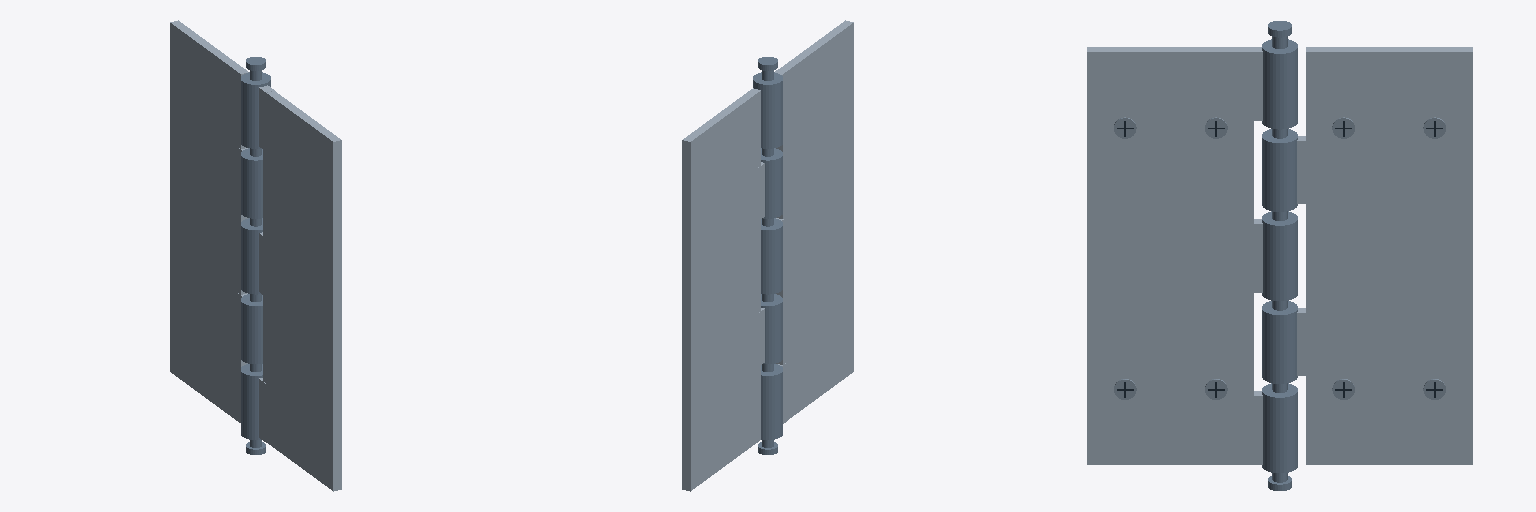
The robot description file, URDF, robot "architectural_butt_hinge":
<robot name="architectural_butt_hinge">
  <material name="satin_galvanized_leaf">
    <color rgba="0.68 0.73 0.78 1" />
    </material>
  <material name="darker_pin_and_knuckles">
    <color rgba="0.48 0.55 0.62 1" />
    </material>
  <material name="recessed_screw_heads">
    <color rgba="0.56 0.62 0.68 1" />
    </material>
  <material name="dark_screw_recesses">
    <color rgba="0.18 0.23 0.28 1" />
    </material>
  <link name="frame_leaf">
    <visual name="frame_rectangular_leaf_plate">
      <origin xyz="0 -0.288 0" rpy="0 0 0" />
      <geometry>
        <box size="0.03 0.44 1.2" />
        </geometry>
      <material name="satin_galvanized_leaf">
        <color rgba="0.68 0.73 0.78 1" />
        </material>
      </visual>
    <visual name="continuous_hinge_pin_visible_core">
      <geometry>
        <cylinder radius="0.02" length="1.305" />
        </geometry>
      <material name="darker_pin_and_knuckles">
        <color rgba="0.48 0.55 0.62 1" />
        </material>
      </visual>
    <visual name="frame_alternating_knuckle_1">
      <origin xyz="0 0 0.5" rpy="0 0 0" />
      <geometry>
        <cylinder radius="0.048" length="0.22" />
        </geometry>
      <material name="darker_pin_and_knuckles">
        <color rgba="0.48 0.55 0.62 1" />
        </material>
      </visual>
    <visual name="frame_leaf_to_knuckle_bridge_1">
      <origin xyz="0 -0.053 0.5" rpy="0 0 0" />
      <geometry>
        <box size="0.0324 0.075 0.2024" />
        </geometry>
      <material name="satin_galvanized_leaf">
        <color rgba="0.68 0.73 0.78 1" />
        </material>
      </visual>
    <visual name="frame_alternating_knuckle_2">
      <geometry>
        <cylinder radius="0.048" length="0.22" />
        </geometry>
      <material name="darker_pin_and_knuckles">
        <color rgba="0.48 0.55 0.62 1" />
        </material>
      </visual>
    <visual name="frame_leaf_to_knuckle_bridge_2">
      <origin xyz="0 -0.053 0" rpy="0 0 0" />
      <geometry>
        <box size="0.0324 0.075 0.2024" />
        </geometry>
      <material name="satin_galvanized_leaf">
        <color rgba="0.68 0.73 0.78 1" />
        </material>
      </visual>
    <visual name="frame_alternating_knuckle_3">
      <origin xyz="0 0 -0.5" rpy="0 0 0" />
      <geometry>
        <cylinder radius="0.048" length="0.22" />
        </geometry>
      <material name="darker_pin_and_knuckles">
        <color rgba="0.48 0.55 0.62 1" />
        </material>
      </visual>
    <visual name="frame_leaf_to_knuckle_bridge_3">
      <origin xyz="0 -0.053 -0.5" rpy="0 0 0" />
      <geometry>
        <box size="0.0324 0.075 0.2024" />
        </geometry>
      <material name="satin_galvanized_leaf">
        <color rgba="0.68 0.73 0.78 1" />
        </material>
      </visual>
    <visual name="top_pin_cap">
      <origin xyz="0 0 0.66" rpy="0 0 0" />
      <geometry>
        <cylinder radius="0.032" length="0.02" />
        </geometry>
      <material name="darker_pin_and_knuckles">
        <color rgba="0.48 0.55 0.62 1" />
        </material>
      </visual>
    <visual name="bottom_pin_cap">
      <origin xyz="0 0 -0.66" rpy="0 0 0" />
      <geometry>
        <cylinder radius="0.032" length="0.02" />
        </geometry>
      <material name="darker_pin_and_knuckles">
        <color rgba="0.48 0.55 0.62 1" />
        </material>
      </visual>
    <visual name="frame_countersunk_screw_1_head">
      <origin xyz="0.015 -0.408 0.38" rpy="0 1.5708 0" />
      <geometry>
        <cylinder radius="0.03" length="0.01" />
        </geometry>
      <material name="recessed_screw_heads">
        <color rgba="0.56 0.62 0.68 1" />
        </material>
      </visual>
    <visual name="frame_countersunk_screw_1_slot_a">
      <origin xyz="0.016 -0.408 0.38" rpy="0 0 0" />
      <geometry>
        <box size="0.01 0.045 0.004" />
        </geometry>
      <material name="dark_screw_recesses">
        <color rgba="0.18 0.23 0.28 1" />
        </material>
      </visual>
    <visual name="frame_countersunk_screw_1_slot_b">
      <origin xyz="0.017 -0.408 0.38" rpy="0 0 0" />
      <geometry>
        <box size="0.01 0.004 0.045" />
        </geometry>
      <material name="dark_screw_recesses">
        <color rgba="0.18 0.23 0.28 1" />
        </material>
      </visual>
    <visual name="frame_countersunk_screw_2_head">
      <origin xyz="0.015 -0.168 0.38" rpy="0 1.5708 0" />
      <geometry>
        <cylinder radius="0.03" length="0.01" />
        </geometry>
      <material name="recessed_screw_heads">
        <color rgba="0.56 0.62 0.68 1" />
        </material>
      </visual>
    <visual name="frame_countersunk_screw_2_slot_a">
      <origin xyz="0.016 -0.168 0.38" rpy="0 0 0" />
      <geometry>
        <box size="0.01 0.045 0.004" />
        </geometry>
      <material name="dark_screw_recesses">
        <color rgba="0.18 0.23 0.28 1" />
        </material>
      </visual>
    <visual name="frame_countersunk_screw_2_slot_b">
      <origin xyz="0.017 -0.168 0.38" rpy="0 0 0" />
      <geometry>
        <box size="0.01 0.004 0.045" />
        </geometry>
      <material name="dark_screw_recesses">
        <color rgba="0.18 0.23 0.28 1" />
        </material>
      </visual>
    <visual name="frame_countersunk_screw_3_head">
      <origin xyz="0.015 -0.408 -0.38" rpy="0 1.5708 0" />
      <geometry>
        <cylinder radius="0.03" length="0.01" />
        </geometry>
      <material name="recessed_screw_heads">
        <color rgba="0.56 0.62 0.68 1" />
        </material>
      </visual>
    <visual name="frame_countersunk_screw_3_slot_a">
      <origin xyz="0.016 -0.408 -0.38" rpy="0 0 0" />
      <geometry>
        <box size="0.01 0.045 0.004" />
        </geometry>
      <material name="dark_screw_recesses">
        <color rgba="0.18 0.23 0.28 1" />
        </material>
      </visual>
    <visual name="frame_countersunk_screw_3_slot_b">
      <origin xyz="0.017 -0.408 -0.38" rpy="0 0 0" />
      <geometry>
        <box size="0.01 0.004 0.045" />
        </geometry>
      <material name="dark_screw_recesses">
        <color rgba="0.18 0.23 0.28 1" />
        </material>
      </visual>
    <visual name="frame_countersunk_screw_4_head">
      <origin xyz="0.015 -0.168 -0.38" rpy="0 1.5708 0" />
      <geometry>
        <cylinder radius="0.03" length="0.01" />
        </geometry>
      <material name="recessed_screw_heads">
        <color rgba="0.56 0.62 0.68 1" />
        </material>
      </visual>
    <visual name="frame_countersunk_screw_4_slot_a">
      <origin xyz="0.016 -0.168 -0.38" rpy="0 0 0" />
      <geometry>
        <box size="0.01 0.045 0.004" />
        </geometry>
      <material name="dark_screw_recesses">
        <color rgba="0.18 0.23 0.28 1" />
        </material>
      </visual>
    <visual name="frame_countersunk_screw_4_slot_b">
      <origin xyz="0.017 -0.168 -0.38" rpy="0 0 0" />
      <geometry>
        <box size="0.01 0.004 0.045" />
        </geometry>
      <material name="dark_screw_recesses">
        <color rgba="0.18 0.23 0.28 1" />
        </material>
      </visual>
    <collision name="frame_rectangular_leaf_plate">
      <origin xyz="0 -0.288 0" rpy="0 0 0" />
      <geometry>
        <box size="0.03 0.44 1.2" />
        </geometry>
      </collision>
    <collision name="continuous_hinge_pin_visible_core">
      <geometry>
        <cylinder radius="0.02" length="1.305" />
        </geometry>
      </collision>
    <collision name="frame_alternating_knuckle_1">
      <origin xyz="0 0 0.5" rpy="0 0 0" />
      <geometry>
        <cylinder radius="0.048" length="0.22" />
        </geometry>
      </collision>
    <collision name="frame_leaf_to_knuckle_bridge_1">
      <origin xyz="0 -0.053 0.5" rpy="0 0 0" />
      <geometry>
        <box size="0.0324 0.075 0.2024" />
        </geometry>
      </collision>
    <collision name="frame_alternating_knuckle_2">
      <geometry>
        <cylinder radius="0.048" length="0.22" />
        </geometry>
      </collision>
    <collision name="frame_leaf_to_knuckle_bridge_2">
      <origin xyz="0 -0.053 0" rpy="0 0 0" />
      <geometry>
        <box size="0.0324 0.075 0.2024" />
        </geometry>
      </collision>
    <collision name="frame_alternating_knuckle_3">
      <origin xyz="0 0 -0.5" rpy="0 0 0" />
      <geometry>
        <cylinder radius="0.048" length="0.22" />
        </geometry>
      </collision>
    <collision name="frame_leaf_to_knuckle_bridge_3">
      <origin xyz="0 -0.053 -0.5" rpy="0 0 0" />
      <geometry>
        <box size="0.0324 0.075 0.2024" />
        </geometry>
      </collision>
    <collision name="top_pin_cap">
      <origin xyz="0 0 0.66" rpy="0 0 0" />
      <geometry>
        <cylinder radius="0.032" length="0.02" />
        </geometry>
      </collision>
    <collision name="bottom_pin_cap">
      <origin xyz="0 0 -0.66" rpy="0 0 0" />
      <geometry>
        <cylinder radius="0.032" length="0.02" />
        </geometry>
      </collision>
    <collision name="frame_countersunk_screw_1_head">
      <origin xyz="0.015 -0.408 0.38" rpy="0 1.5708 0" />
      <geometry>
        <cylinder radius="0.03" length="0.01" />
        </geometry>
      </collision>
    <collision name="frame_countersunk_screw_1_slot_a">
      <origin xyz="0.016 -0.408 0.38" rpy="0 0 0" />
      <geometry>
        <box size="0.01 0.045 0.004" />
        </geometry>
      </collision>
    <collision name="frame_countersunk_screw_1_slot_b">
      <origin xyz="0.017 -0.408 0.38" rpy="0 0 0" />
      <geometry>
        <box size="0.01 0.004 0.045" />
        </geometry>
      </collision>
    <collision name="frame_countersunk_screw_2_head">
      <origin xyz="0.015 -0.168 0.38" rpy="0 1.5708 0" />
      <geometry>
        <cylinder radius="0.03" length="0.01" />
        </geometry>
      </collision>
    <collision name="frame_countersunk_screw_2_slot_a">
      <origin xyz="0.016 -0.168 0.38" rpy="0 0 0" />
      <geometry>
        <box size="0.01 0.045 0.004" />
        </geometry>
      </collision>
    <collision name="frame_countersunk_screw_2_slot_b">
      <origin xyz="0.017 -0.168 0.38" rpy="0 0 0" />
      <geometry>
        <box size="0.01 0.004 0.045" />
        </geometry>
      </collision>
    <collision name="frame_countersunk_screw_3_head">
      <origin xyz="0.015 -0.408 -0.38" rpy="0 1.5708 0" />
      <geometry>
        <cylinder radius="0.03" length="0.01" />
        </geometry>
      </collision>
    <collision name="frame_countersunk_screw_3_slot_a">
      <origin xyz="0.016 -0.408 -0.38" rpy="0 0 0" />
      <geometry>
        <box size="0.01 0.045 0.004" />
        </geometry>
      </collision>
    <collision name="frame_countersunk_screw_3_slot_b">
      <origin xyz="0.017 -0.408 -0.38" rpy="0 0 0" />
      <geometry>
        <box size="0.01 0.004 0.045" />
        </geometry>
      </collision>
    <collision name="frame_countersunk_screw_4_head">
      <origin xyz="0.015 -0.168 -0.38" rpy="0 1.5708 0" />
      <geometry>
        <cylinder radius="0.03" length="0.01" />
        </geometry>
      </collision>
    <collision name="frame_countersunk_screw_4_slot_a">
      <origin xyz="0.016 -0.168 -0.38" rpy="0 0 0" />
      <geometry>
        <box size="0.01 0.045 0.004" />
        </geometry>
      </collision>
    <collision name="frame_countersunk_screw_4_slot_b">
      <origin xyz="0.017 -0.168 -0.38" rpy="0 0 0" />
      <geometry>
        <box size="0.01 0.004 0.045" />
        </geometry>
      </collision>
    </link>
  <link name="door_leaf">
    <visual name="door_rectangular_leaf_plate">
      <origin xyz="0 0.288 0" rpy="0 0 0" />
      <geometry>
        <box size="0.03 0.44 1.2" />
        </geometry>
      <material name="satin_galvanized_leaf">
        <color rgba="0.68 0.73 0.78 1" />
        </material>
      </visual>
    <visual name="door_alternating_knuckle_1">
      <origin xyz="0 0 0.25" rpy="0 0 0" />
      <geometry>
        <cylinder radius="0.048" length="0.2" />
        </geometry>
      <material name="darker_pin_and_knuckles">
        <color rgba="0.48 0.55 0.62 1" />
        </material>
      </visual>
    <visual name="door_leaf_to_knuckle_bridge_1">
      <origin xyz="0 0.053 0.25" rpy="0 0 0" />
      <geometry>
        <box size="0.0324 0.075 0.184" />
        </geometry>
      <material name="satin_galvanized_leaf">
        <color rgba="0.68 0.73 0.78 1" />
        </material>
      </visual>
    <visual name="door_alternating_knuckle_2">
      <origin xyz="0 0 -0.25" rpy="0 0 0" />
      <geometry>
        <cylinder radius="0.048" length="0.2" />
        </geometry>
      <material name="darker_pin_and_knuckles">
        <color rgba="0.48 0.55 0.62 1" />
        </material>
      </visual>
    <visual name="door_leaf_to_knuckle_bridge_2">
      <origin xyz="0 0.053 -0.25" rpy="0 0 0" />
      <geometry>
        <box size="0.0324 0.075 0.184" />
        </geometry>
      <material name="satin_galvanized_leaf">
        <color rgba="0.68 0.73 0.78 1" />
        </material>
      </visual>
    <visual name="door_countersunk_screw_1_head">
      <origin xyz="0.015 0.168 0.38" rpy="0 1.5708 0" />
      <geometry>
        <cylinder radius="0.03" length="0.01" />
        </geometry>
      <material name="recessed_screw_heads">
        <color rgba="0.56 0.62 0.68 1" />
        </material>
      </visual>
    <visual name="door_countersunk_screw_1_slot_a">
      <origin xyz="0.016 0.168 0.38" rpy="0 0 0" />
      <geometry>
        <box size="0.01 0.045 0.004" />
        </geometry>
      <material name="dark_screw_recesses">
        <color rgba="0.18 0.23 0.28 1" />
        </material>
      </visual>
    <visual name="door_countersunk_screw_1_slot_b">
      <origin xyz="0.017 0.168 0.38" rpy="0 0 0" />
      <geometry>
        <box size="0.01 0.004 0.045" />
        </geometry>
      <material name="dark_screw_recesses">
        <color rgba="0.18 0.23 0.28 1" />
        </material>
      </visual>
    <visual name="door_countersunk_screw_2_head">
      <origin xyz="0.015 0.408 0.38" rpy="0 1.5708 0" />
      <geometry>
        <cylinder radius="0.03" length="0.01" />
        </geometry>
      <material name="recessed_screw_heads">
        <color rgba="0.56 0.62 0.68 1" />
        </material>
      </visual>
    <visual name="door_countersunk_screw_2_slot_a">
      <origin xyz="0.016 0.408 0.38" rpy="0 0 0" />
      <geometry>
        <box size="0.01 0.045 0.004" />
        </geometry>
      <material name="dark_screw_recesses">
        <color rgba="0.18 0.23 0.28 1" />
        </material>
      </visual>
    <visual name="door_countersunk_screw_2_slot_b">
      <origin xyz="0.017 0.408 0.38" rpy="0 0 0" />
      <geometry>
        <box size="0.01 0.004 0.045" />
        </geometry>
      <material name="dark_screw_recesses">
        <color rgba="0.18 0.23 0.28 1" />
        </material>
      </visual>
    <visual name="door_countersunk_screw_3_head">
      <origin xyz="0.015 0.168 -0.38" rpy="0 1.5708 0" />
      <geometry>
        <cylinder radius="0.03" length="0.01" />
        </geometry>
      <material name="recessed_screw_heads">
        <color rgba="0.56 0.62 0.68 1" />
        </material>
      </visual>
    <visual name="door_countersunk_screw_3_slot_a">
      <origin xyz="0.016 0.168 -0.38" rpy="0 0 0" />
      <geometry>
        <box size="0.01 0.045 0.004" />
        </geometry>
      <material name="dark_screw_recesses">
        <color rgba="0.18 0.23 0.28 1" />
        </material>
      </visual>
    <visual name="door_countersunk_screw_3_slot_b">
      <origin xyz="0.017 0.168 -0.38" rpy="0 0 0" />
      <geometry>
        <box size="0.01 0.004 0.045" />
        </geometry>
      <material name="dark_screw_recesses">
        <color rgba="0.18 0.23 0.28 1" />
        </material>
      </visual>
    <visual name="door_countersunk_screw_4_head">
      <origin xyz="0.015 0.408 -0.38" rpy="0 1.5708 0" />
      <geometry>
        <cylinder radius="0.03" length="0.01" />
        </geometry>
      <material name="recessed_screw_heads">
        <color rgba="0.56 0.62 0.68 1" />
        </material>
      </visual>
    <visual name="door_countersunk_screw_4_slot_a">
      <origin xyz="0.016 0.408 -0.38" rpy="0 0 0" />
      <geometry>
        <box size="0.01 0.045 0.004" />
        </geometry>
      <material name="dark_screw_recesses">
        <color rgba="0.18 0.23 0.28 1" />
        </material>
      </visual>
    <visual name="door_countersunk_screw_4_slot_b">
      <origin xyz="0.017 0.408 -0.38" rpy="0 0 0" />
      <geometry>
        <box size="0.01 0.004 0.045" />
        </geometry>
      <material name="dark_screw_recesses">
        <color rgba="0.18 0.23 0.28 1" />
        </material>
      </visual>
    <collision name="door_rectangular_leaf_plate">
      <origin xyz="0 0.288 0" rpy="0 0 0" />
      <geometry>
        <box size="0.03 0.44 1.2" />
        </geometry>
      </collision>
    <collision name="door_alternating_knuckle_1">
      <origin xyz="0 0 0.25" rpy="0 0 0" />
      <geometry>
        <cylinder radius="0.048" length="0.2" />
        </geometry>
      </collision>
    <collision name="door_leaf_to_knuckle_bridge_1">
      <origin xyz="0 0.053 0.25" rpy="0 0 0" />
      <geometry>
        <box size="0.0324 0.075 0.184" />
        </geometry>
      </collision>
    <collision name="door_alternating_knuckle_2">
      <origin xyz="0 0 -0.25" rpy="0 0 0" />
      <geometry>
        <cylinder radius="0.048" length="0.2" />
        </geometry>
      </collision>
    <collision name="door_leaf_to_knuckle_bridge_2">
      <origin xyz="0 0.053 -0.25" rpy="0 0 0" />
      <geometry>
        <box size="0.0324 0.075 0.184" />
        </geometry>
      </collision>
    <collision name="door_countersunk_screw_1_head">
      <origin xyz="0.015 0.168 0.38" rpy="0 1.5708 0" />
      <geometry>
        <cylinder radius="0.03" length="0.01" />
        </geometry>
      </collision>
    <collision name="door_countersunk_screw_1_slot_a">
      <origin xyz="0.016 0.168 0.38" rpy="0 0 0" />
      <geometry>
        <box size="0.01 0.045 0.004" />
        </geometry>
      </collision>
    <collision name="door_countersunk_screw_1_slot_b">
      <origin xyz="0.017 0.168 0.38" rpy="0 0 0" />
      <geometry>
        <box size="0.01 0.004 0.045" />
        </geometry>
      </collision>
    <collision name="door_countersunk_screw_2_head">
      <origin xyz="0.015 0.408 0.38" rpy="0 1.5708 0" />
      <geometry>
        <cylinder radius="0.03" length="0.01" />
        </geometry>
      </collision>
    <collision name="door_countersunk_screw_2_slot_a">
      <origin xyz="0.016 0.408 0.38" rpy="0 0 0" />
      <geometry>
        <box size="0.01 0.045 0.004" />
        </geometry>
      </collision>
    <collision name="door_countersunk_screw_2_slot_b">
      <origin xyz="0.017 0.408 0.38" rpy="0 0 0" />
      <geometry>
        <box size="0.01 0.004 0.045" />
        </geometry>
      </collision>
    <collision name="door_countersunk_screw_3_head">
      <origin xyz="0.015 0.168 -0.38" rpy="0 1.5708 0" />
      <geometry>
        <cylinder radius="0.03" length="0.01" />
        </geometry>
      </collision>
    <collision name="door_countersunk_screw_3_slot_a">
      <origin xyz="0.016 0.168 -0.38" rpy="0 0 0" />
      <geometry>
        <box size="0.01 0.045 0.004" />
        </geometry>
      </collision>
    <collision name="door_countersunk_screw_3_slot_b">
      <origin xyz="0.017 0.168 -0.38" rpy="0 0 0" />
      <geometry>
        <box size="0.01 0.004 0.045" />
        </geometry>
      </collision>
    <collision name="door_countersunk_screw_4_head">
      <origin xyz="0.015 0.408 -0.38" rpy="0 1.5708 0" />
      <geometry>
        <cylinder radius="0.03" length="0.01" />
        </geometry>
      </collision>
    <collision name="door_countersunk_screw_4_slot_a">
      <origin xyz="0.016 0.408 -0.38" rpy="0 0 0" />
      <geometry>
        <box size="0.01 0.045 0.004" />
        </geometry>
      </collision>
    <collision name="door_countersunk_screw_4_slot_b">
      <origin xyz="0.017 0.408 -0.38" rpy="0 0 0" />
      <geometry>
        <box size="0.01 0.004 0.045" />
        </geometry>
      </collision>
    </link>
  <joint name="revolute_swing_about_continuous_pin" type="revolute">
    <parent link="frame_leaf" />
    <child link="door_leaf" />
    <axis xyz="0 0 1" />
    <limit effort="12" velocity="1.5" lower="-0.1" upper="1.7" />
    </joint>
  </robot>

--- Facts derived from the render (not from the file) ---
3 views of the same robot in one strip: view 1: azimuth 30°, elevation 25°; view 2: azimuth 150°, elevation 25°; view 3: azimuth 270°, elevation 25° (orthographic).
Robot: architectural_butt_hinge — 2 links, 1 joints (1 revolute); root link frame_leaf; default pose: every joint at zero.
Visible links, largest first — view 1: frame_leaf, door_leaf; view 2: frame_leaf, door_leaf; view 3: frame_leaf, door_leaf.
Boxes of the visible links, left/top/right/bottom form: frame_leaf: left=241, top=57, right=341, bottom=491; door_leaf: left=170, top=20, right=262, bottom=422; frame_leaf: left=753, top=20, right=853, bottom=454; door_leaf: left=682, top=88, right=782, bottom=491; frame_leaf: left=1087, top=21, right=1297, bottom=490; door_leaf: left=1262, top=47, right=1472, bottom=464.
Bounding box of the posed robot: 0.096 × 1.02 × 1.34 m (x, y, z).
Geometry: primitives only (box / cylinder / sphere), no mesh files.
